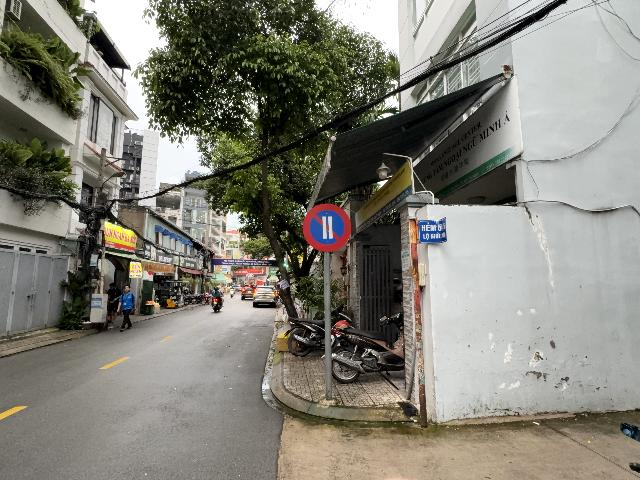cam-do-xe-ngay-chan: (303, 203, 352, 252)
